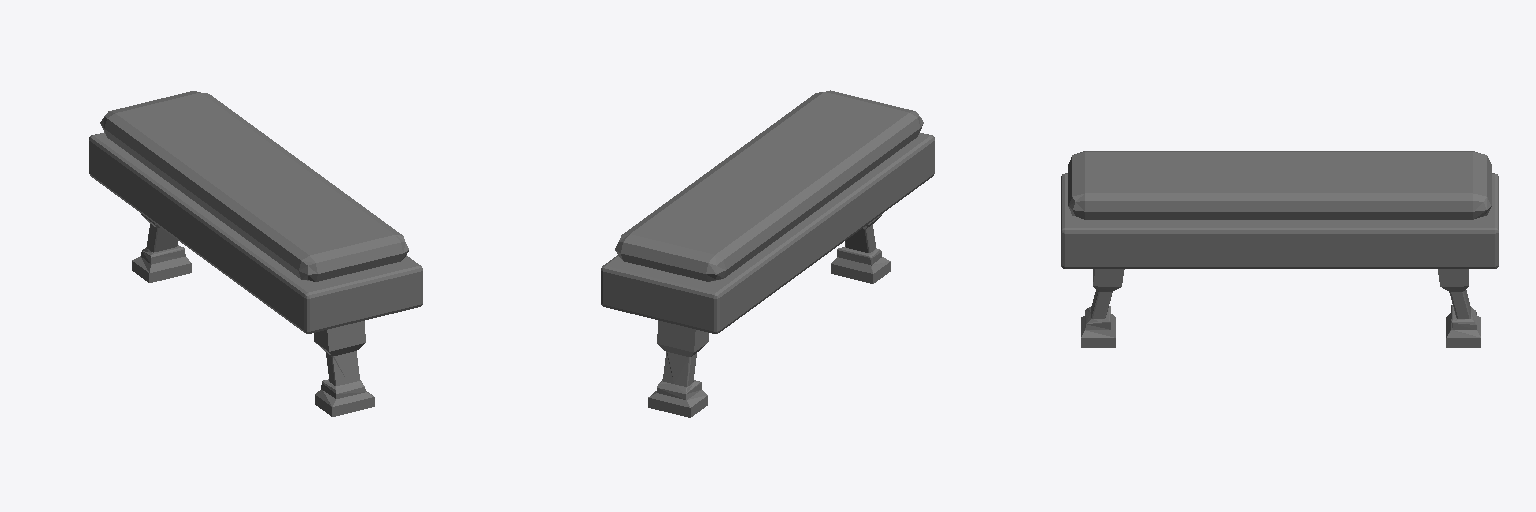
Rendered from Bancomorango.obj.
3 views of the same model, side by side, from view 1: azimuth 30°, elevation 25°; view 2: azimuth 150°, elevation 25°; view 3: azimuth 270°, elevation 25° (orthographic).
Visible parts, largest first — view 1: pCube8, pCube6, pCube27, pCube9; view 2: pCube8, pCube6, pCube9, pCube27; view 3: pCube8, pCube6, pCube27, pCube9.
Boxes of the visible parts, box(x1,y1,x2,y2) form: pCube8: box(100, 91, 408, 281); pCube6: box(89, 132, 422, 333); pCube27: box(314, 321, 374, 416); pCube9: box(132, 214, 191, 282); pCube8: box(615, 90, 923, 281); pCube6: box(601, 133, 934, 333); pCube9: box(648, 320, 708, 417); pCube27: box(831, 214, 890, 283); pCube8: box(1068, 151, 1491, 219); pCube6: box(1061, 173, 1498, 268); pCube27: box(1081, 269, 1124, 347); pCube9: box(1438, 269, 1480, 347).
Size of the model in its own units: 1.1 by 1.47 by 3.54.